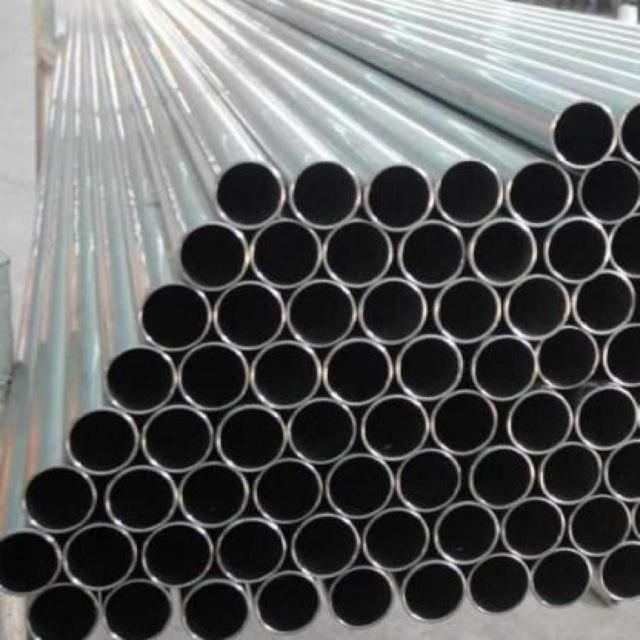pipe: (101, 345, 177, 413), (21, 465, 97, 533), (214, 281, 287, 351), (142, 404, 215, 474), (250, 219, 321, 290), (67, 405, 139, 475), (289, 160, 362, 229), (105, 465, 179, 533), (214, 160, 285, 230), (179, 222, 250, 292), (140, 282, 211, 352), (322, 219, 394, 287), (467, 219, 538, 287), (286, 279, 357, 347), (322, 338, 393, 406), (250, 340, 321, 408), (178, 342, 249, 410), (216, 404, 287, 472), (64, 524, 138, 589), (358, 277, 429, 344), (287, 397, 357, 464), (435, 159, 503, 227), (365, 164, 433, 232), (398, 221, 466, 289), (178, 462, 249, 527), (216, 518, 287, 583), (143, 522, 214, 587), (551, 101, 618, 169), (543, 217, 611, 284), (435, 277, 503, 344), (394, 336, 464, 401), (361, 395, 431, 460), (253, 458, 323, 523), (291, 512, 361, 577), (327, 454, 396, 519), (470, 336, 538, 401), (430, 390, 498, 455), (254, 571, 322, 636), (102, 578, 174, 639), (506, 162, 573, 227), (508, 391, 575, 456), (24, 583, 100, 640), (433, 502, 501, 565), (504, 275, 569, 340), (470, 445, 535, 510), (0, 528, 63, 595), (401, 560, 468, 623), (362, 508, 430, 570), (182, 578, 250, 640), (328, 567, 395, 629), (572, 269, 635, 334), (397, 449, 462, 512), (577, 159, 639, 224), (539, 442, 604, 504), (467, 554, 532, 616), (576, 387, 639, 450), (501, 498, 566, 559), (537, 327, 599, 389), (569, 495, 632, 555), (531, 548, 593, 607), (603, 323, 640, 388), (599, 541, 639, 600), (604, 439, 640, 502), (608, 212, 639, 280), (618, 95, 640, 164)
